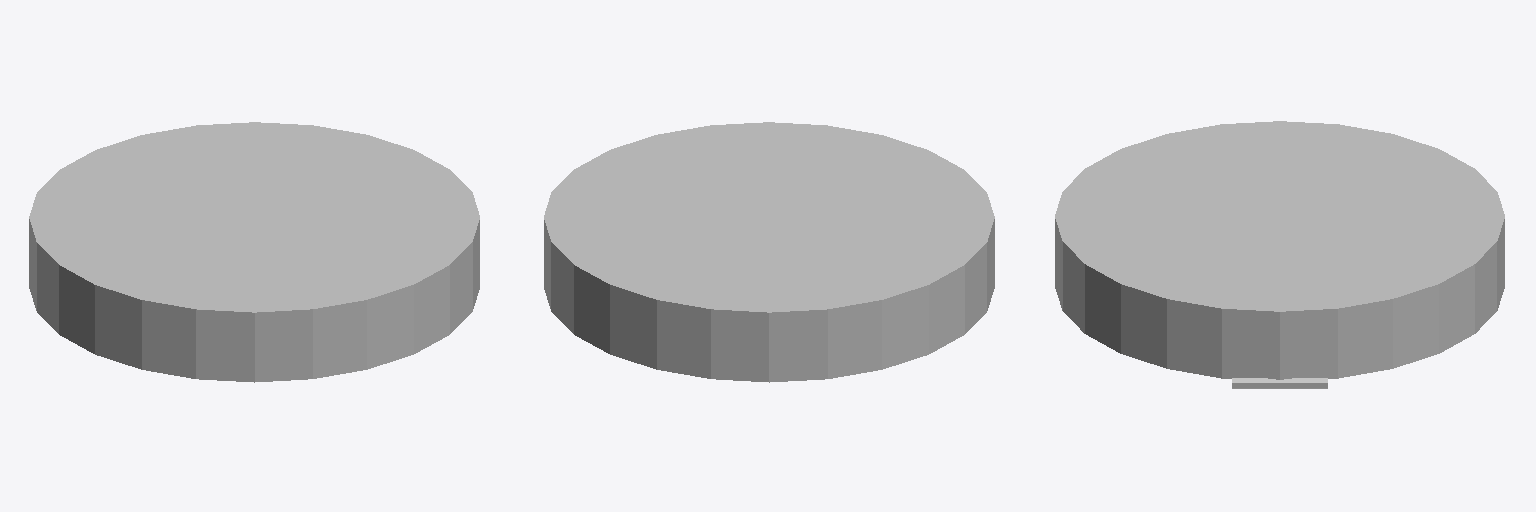
The model's file is BathroomBinLid.obj.
3 views of the same model, side by side, from view 1: azimuth 30°, elevation 25°; view 2: azimuth 150°, elevation 25°; view 3: azimuth 270°, elevation 25° (orthographic).
Parts seen in each view (by area): view 1: SM_Bin_Lid; view 2: SM_Bin_Lid; view 3: SM_Bin_Lid.
Part boxes in pixels (x1,y1,x2,y2): SM_Bin_Lid: (29, 122, 479, 382); SM_Bin_Lid: (544, 122, 994, 382); SM_Bin_Lid: (1055, 121, 1504, 388).
Bounding box in the file's own units: 0.1867 × 0.0353 × 0.1852.